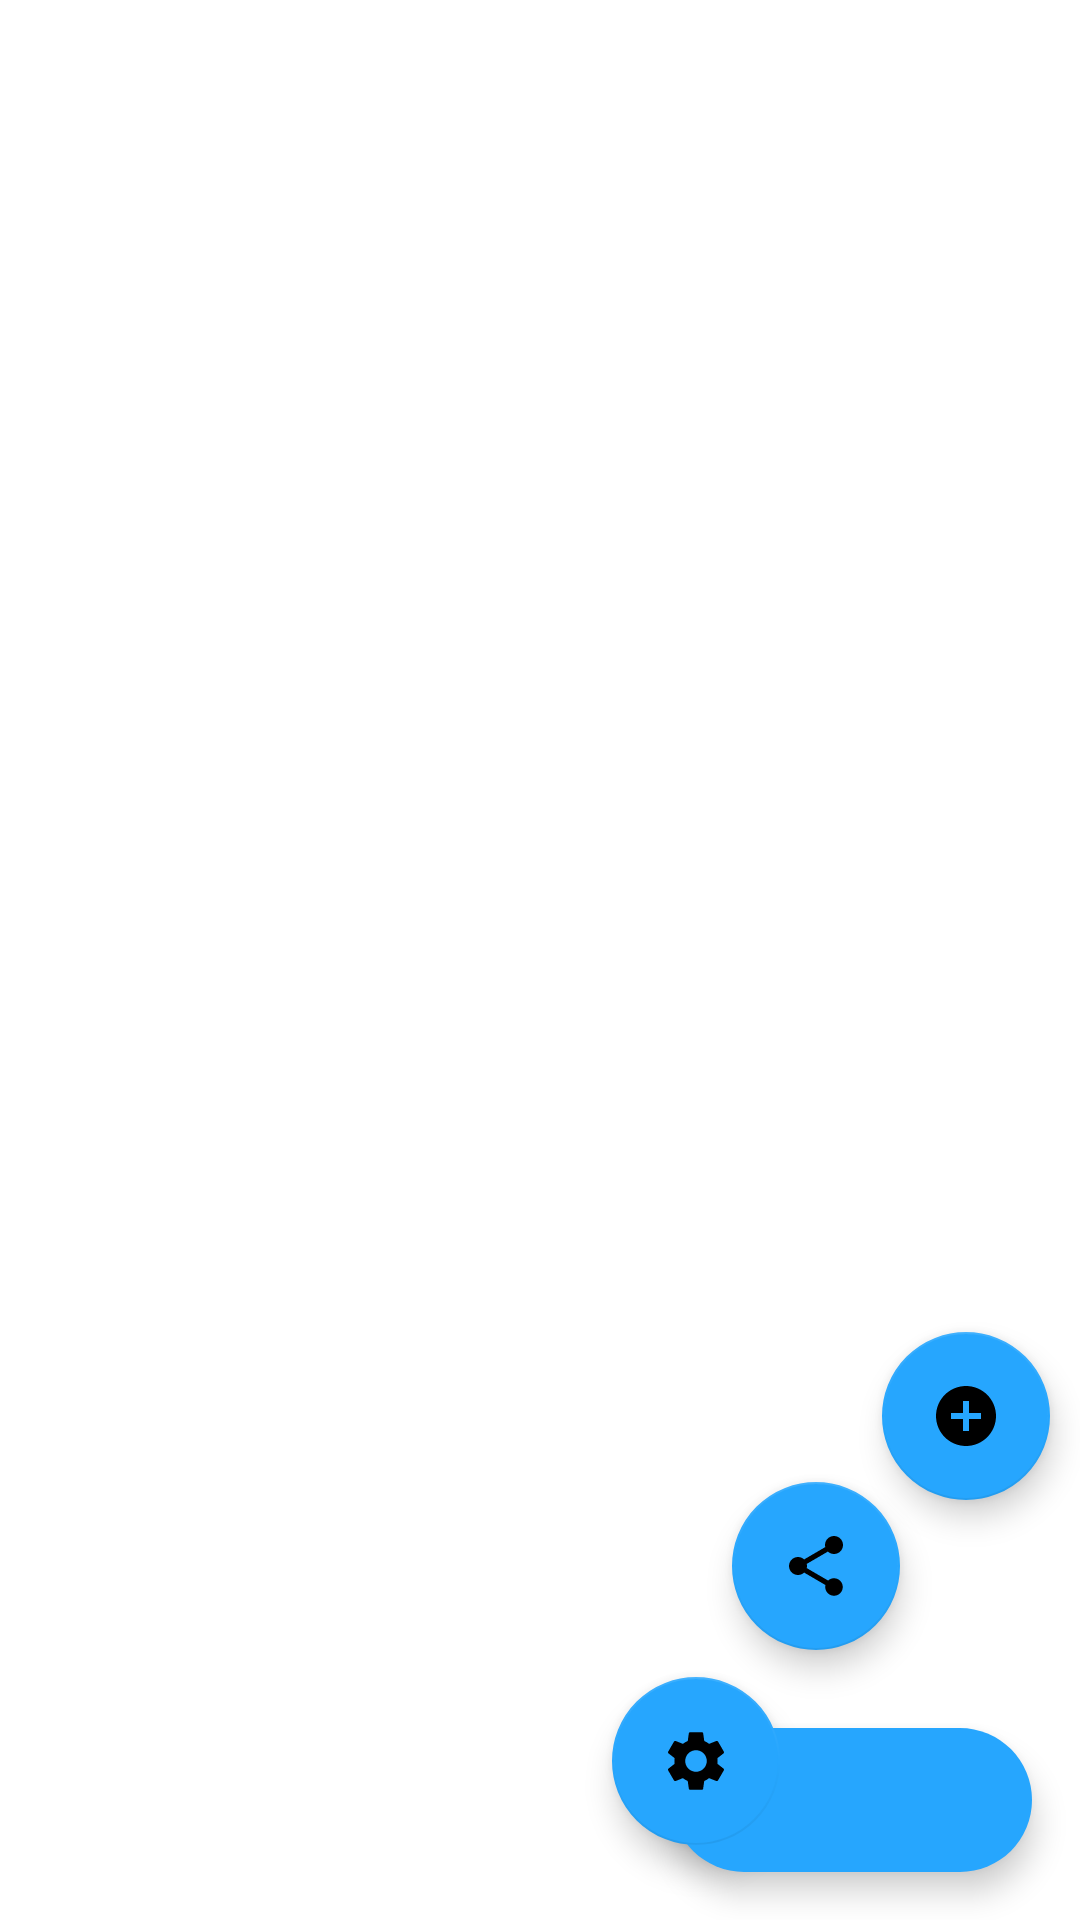

Named icons in this screenshot (1080 x 1920) and their centers, (x,y):
Add a task: (966,1416)
Settings: (696,1761)
Share room code: (816,1566)
